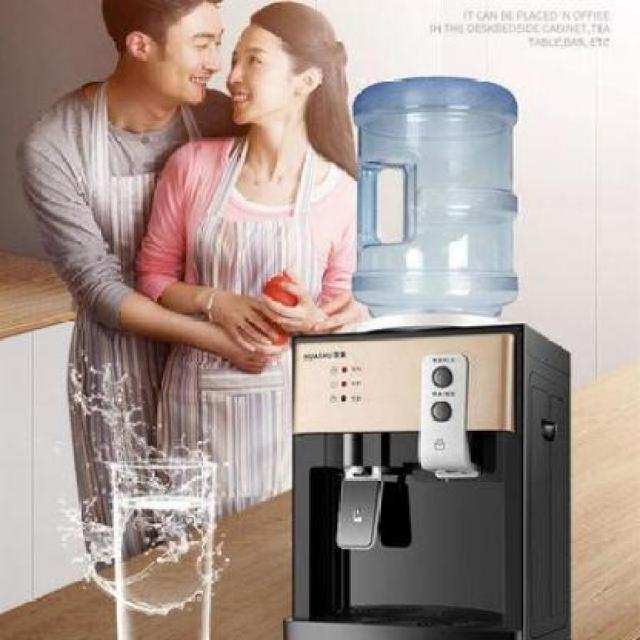cooler: (288, 72, 570, 640)
